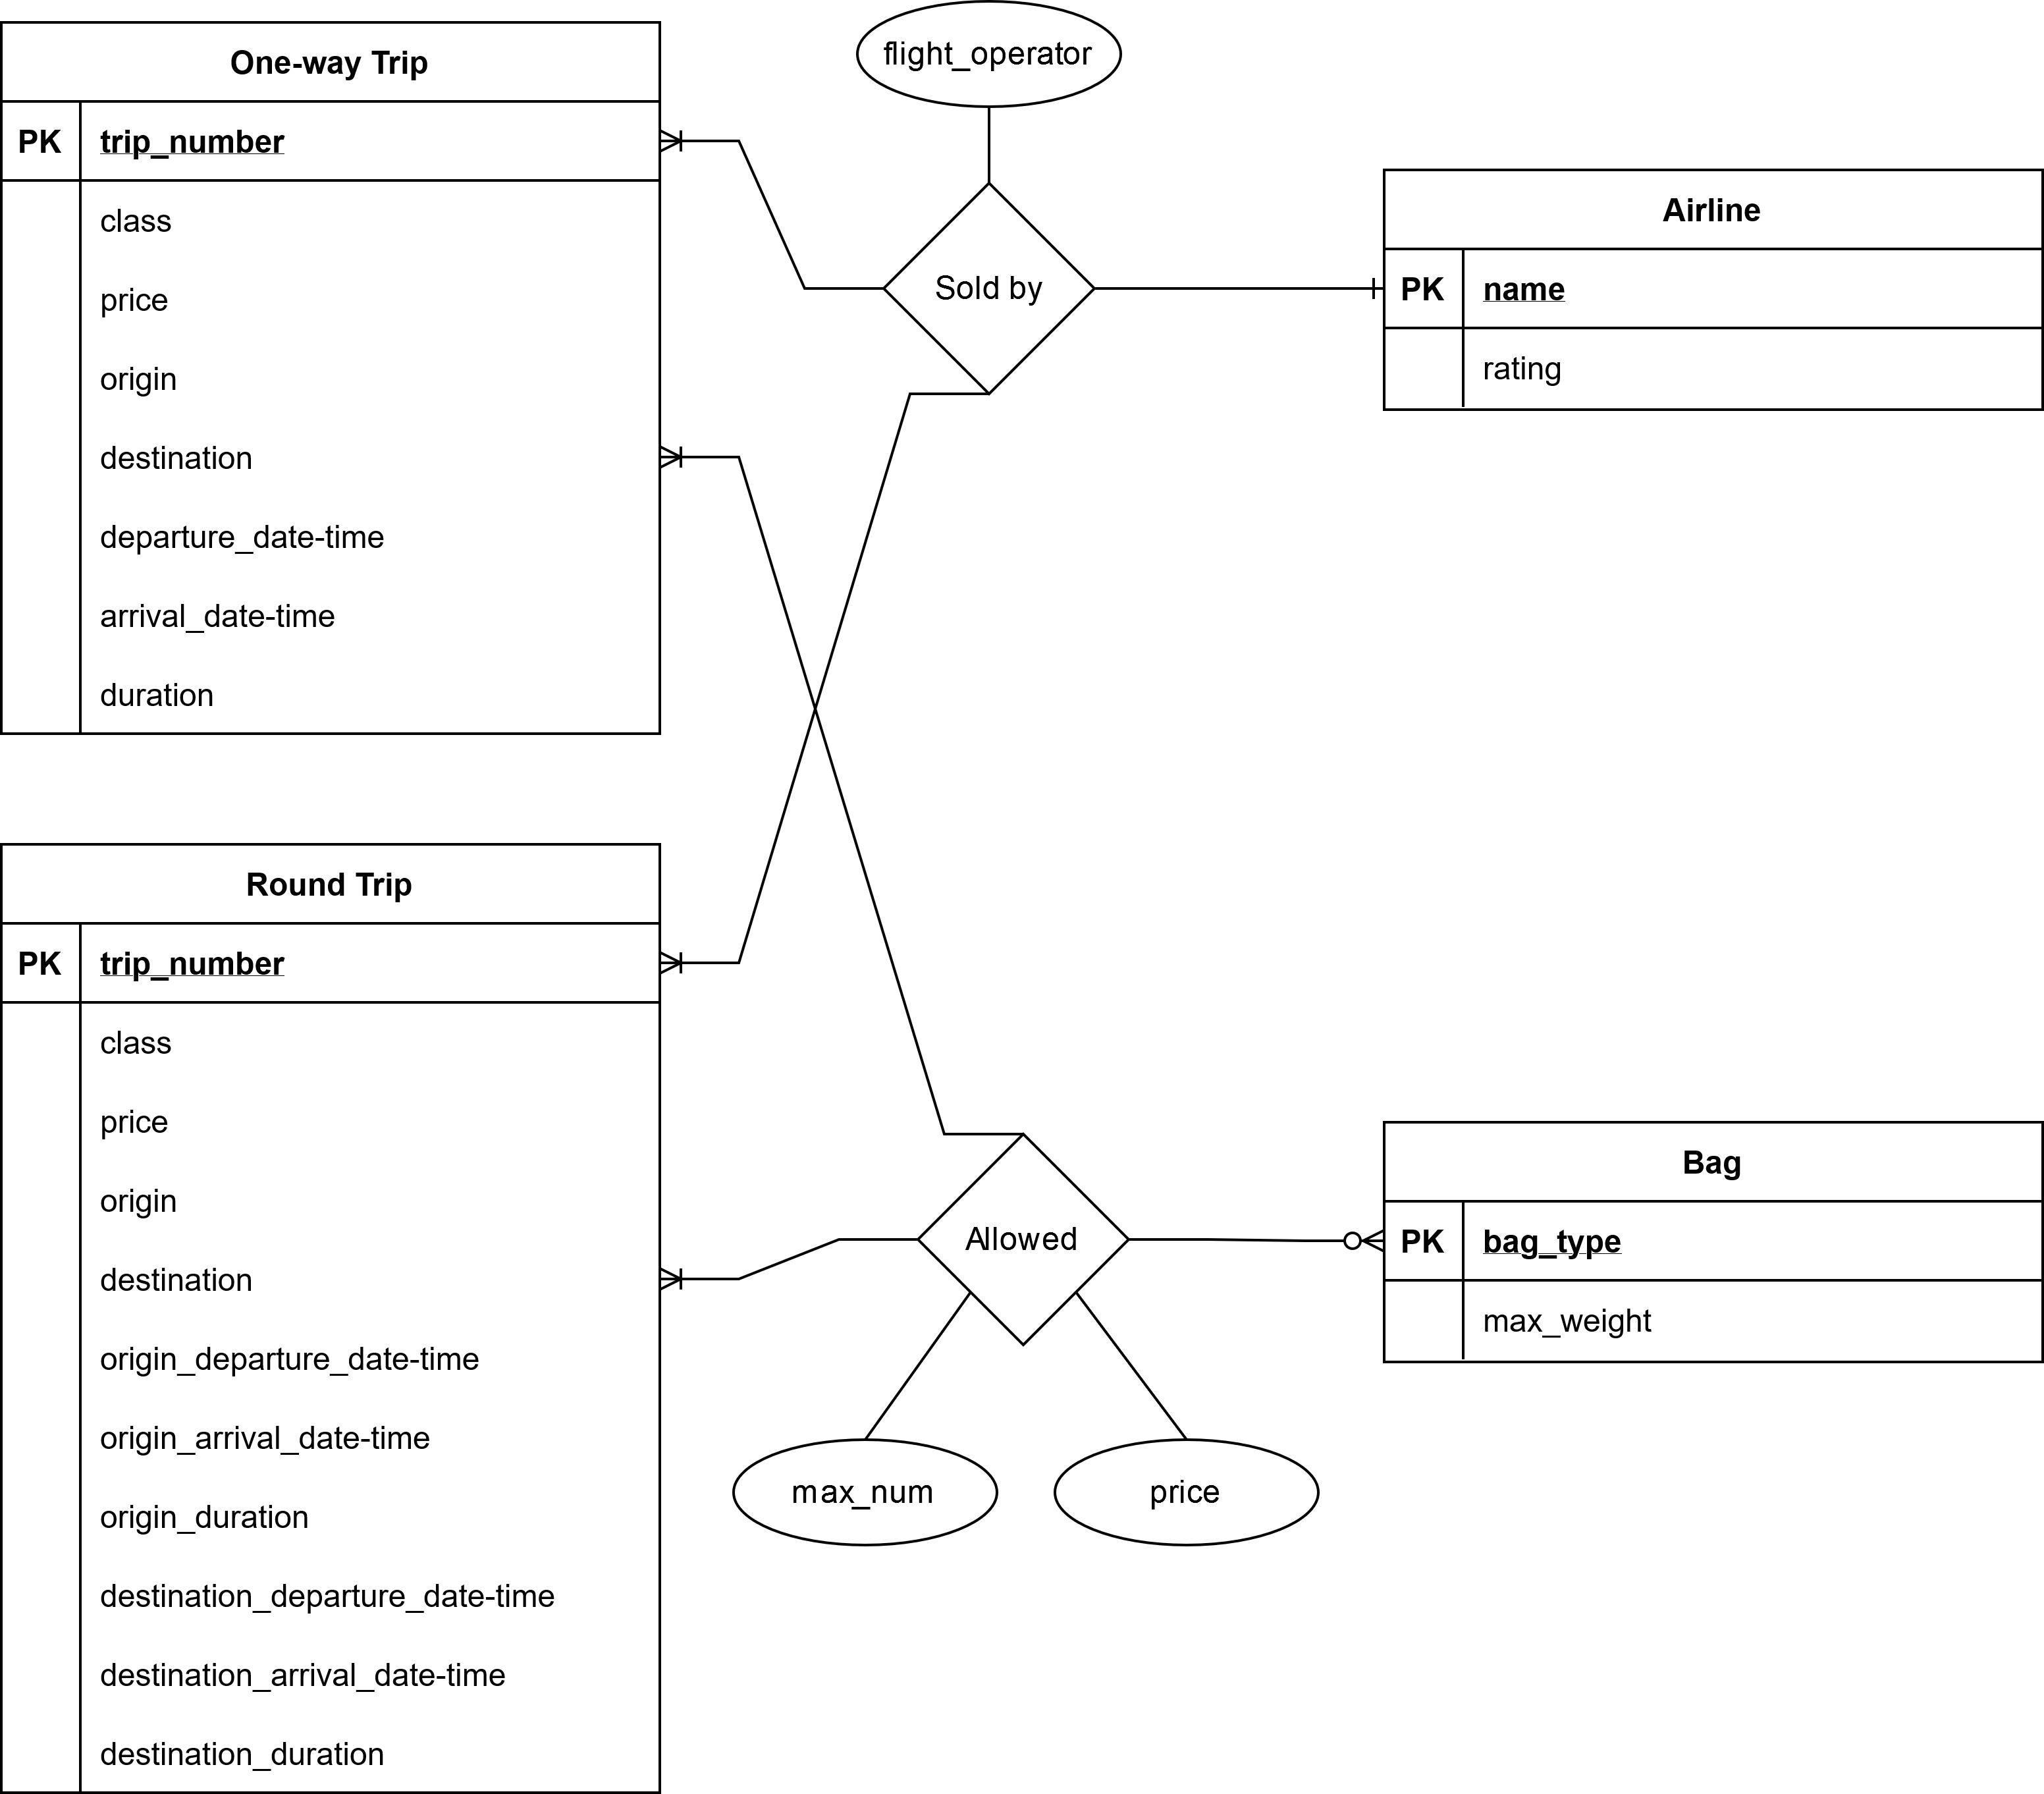attribute: (857, 0, 1121, 108), (732, 1438, 998, 1544), (1055, 1441, 1323, 1544)
entity: (0, 845, 664, 1794), (0, 23, 662, 739), (1378, 1118, 2044, 1372), (1378, 167, 2044, 414)
relationship: (881, 186, 1092, 396), (916, 1140, 1131, 1339)
